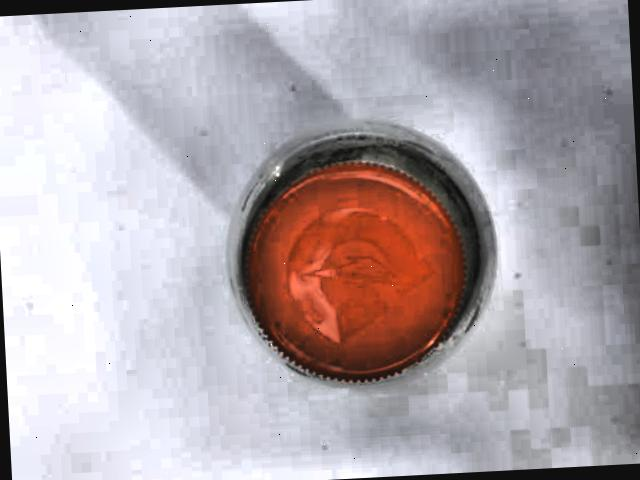Bottles: (212, 100, 508, 408)
